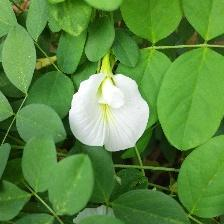shankupushpam: (68, 72, 152, 155)
